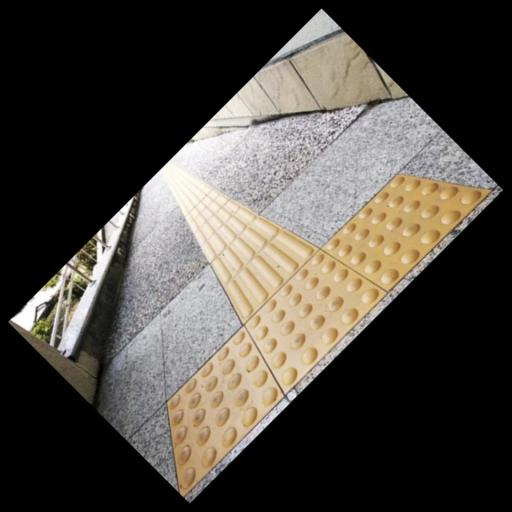dot: (162, 325, 287, 500), (242, 247, 387, 396), (318, 170, 490, 294)
line: (222, 229, 318, 326), (209, 214, 283, 286)
